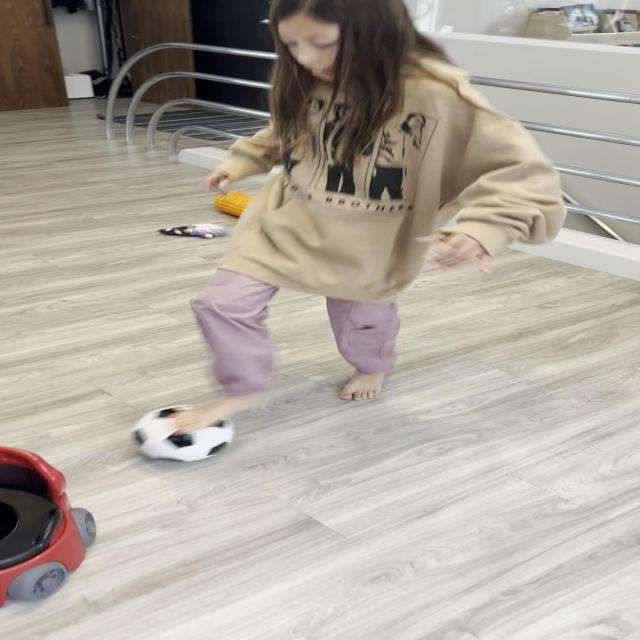Soccer Ball: (130, 405, 240, 462)
